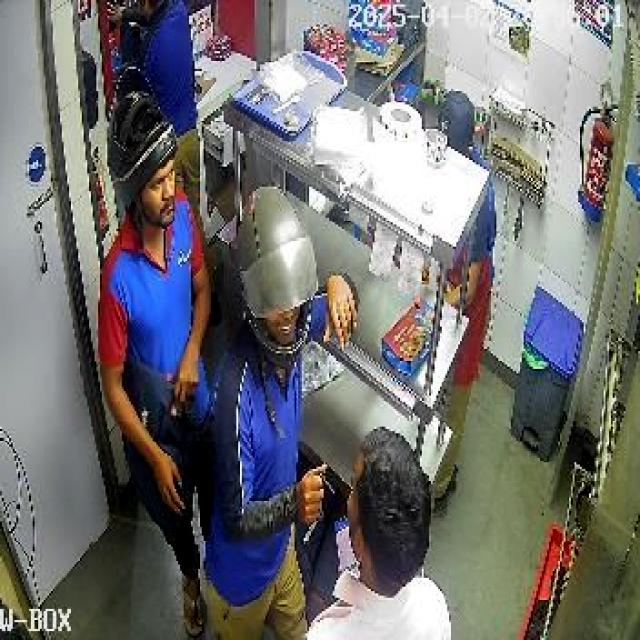helmet: (237, 181, 319, 361), (108, 90, 178, 209)
no_helmet: (347, 424, 432, 595)
